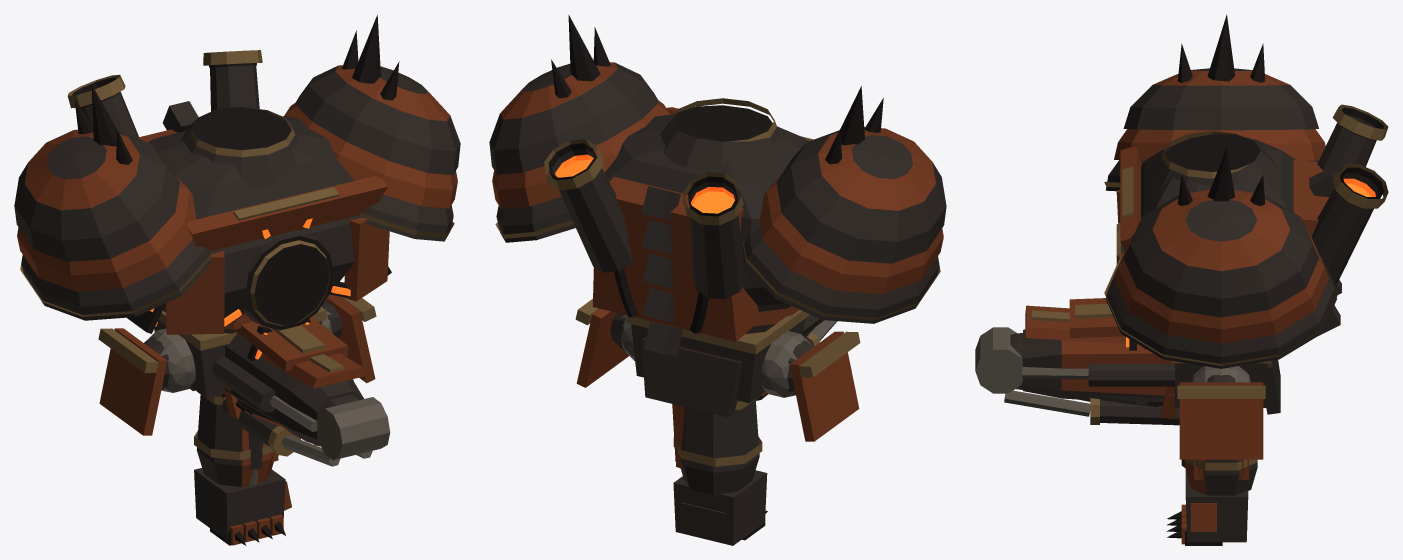
The model's file is colossus.glb.
The picture shows the model from 3 angles, left to right: view 1: azimuth 30°, elevation 25°; view 2: azimuth 150°, elevation 25°; view 3: azimuth 270°, elevation 25°; orthographic projection. The views are drawn at different scales.
Visible parts, largest first — view 1: Colossus_Torso, Colossus_Pelvis, Colossus_Forearm, Colossus_Thigh, Colossus_Shin, Colossus_UpperArm; view 2: Colossus_Torso, Colossus_Pelvis, Colossus_Forearm; view 3: Colossus_Torso, Colossus_Thigh, Colossus_Pelvis, Colossus_Shin, Colossus_Forearm.
Part boxes in pixels (<box>): Colossus_Torso: <box>14,14,460,360</box>; Colossus_Pelvis: <box>98,294,376,435</box>; Colossus_Forearm: <box>194,391,291,545</box>; Colossus_Thigh: <box>211,317,363,446</box>; Colossus_Shin: <box>221,352,390,466</box>; Colossus_UpperArm: <box>218,395,278,485</box>; Colossus_Torso: <box>489,15,946,357</box>; Colossus_Pelvis: <box>575,299,860,441</box>; Colossus_Forearm: <box>672,396,767,545</box>; Colossus_Torso: <box>1104,14,1388,368</box>; Colossus_Thigh: <box>1022,298,1174,400</box>; Colossus_Pelvis: <box>1160,359,1280,459</box>; Colossus_Shin: <box>975,305,1179,425</box>; Colossus_Forearm: <box>1166,459,1257,545</box>.
Size of the model in its own units: 41.47 by 45.3 by 37.45.
